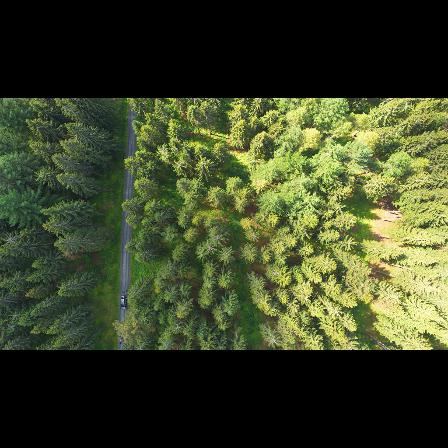Sick: (4, 230, 19, 249), (328, 305, 345, 319), (173, 159, 186, 175), (204, 242, 217, 257), (9, 310, 24, 322), (5, 323, 17, 334)
